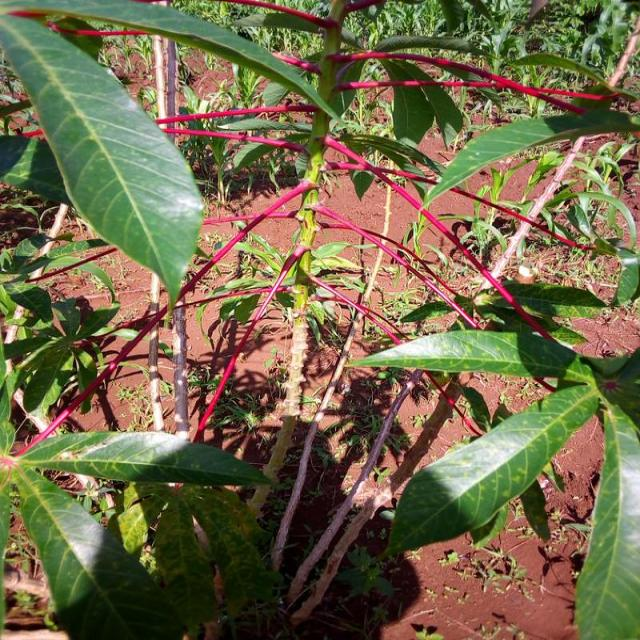cassava leaf: (0, 11, 205, 304), (386, 362, 599, 556), (11, 461, 184, 638), (16, 428, 274, 488)
